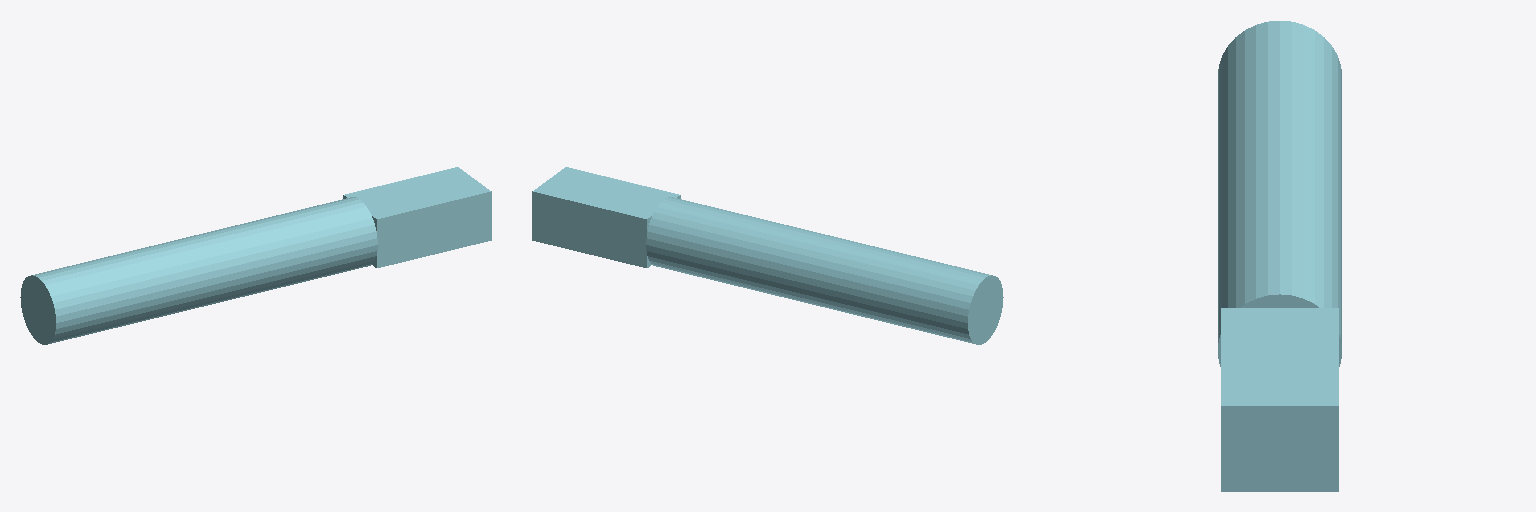
robot.urdf — cylinder_spatula_v6011:
<?xml version="1.0"?>
<robot name="cylinder_spatula_v6011">

  <link name="cylinder_spatula_v6011">
    <!-- Handle -->
    <visual>
      <origin xyz="0 0 0" rpy="0 1.5707963267948966 0"/>
      <geometry>
        <cylinder length="0.17499835379352685" radius="0.01683116076641311"/>
      </geometry>
      <material name="material">
        <color rgba="0.639 0.847 0.882 1.0"/>
      </material>
    </visual>
    <collision>
      <origin xyz="0 0 0" rpy="0 1.5707963267948966 0"/>
      <geometry>
        <cylinder length="0.17499835379352685" radius="0.01683116076641311"/>
      </geometry>
    </collision>

    <!-- Head -->
    <visual>
      <origin xyz="0.11869266563997448 0 0" rpy="0 0 0"/>
      <geometry>
        <box size="0.06238697748642211 0.03163787841142879 0.02554686255058357"/>
      </geometry>
      <material name="material">
        <color rgba="0.639 0.847 0.882 1.0"/>
      </material>
    </visual>
    <collision>
      <origin xyz="0.11869266563997448 0 0" rpy="0 0 0"/>
      <geometry>
        <box size="0.06238697748642211 0.03163787841142879 0.02554686255058357"/>
      </geometry>
    </collision>

    <inertial>
      <density value="400.0"/>
    </inertial>
  </link>

</robot>

--- Render facts (derived) ---
The picture shows the robot from 3 angles, left to right: view 1: azimuth 30°, elevation 25°; view 2: azimuth 150°, elevation 25°; view 3: azimuth 270°, elevation 25°; orthographic projection.
Model cylinder_spatula_v6011 with 1 links and 0 joints (none), rooted at cylinder_spatula_v6011, posed all joints at 0.
Links seen in each view (by area): view 1: cylinder_spatula_v6011; view 2: cylinder_spatula_v6011; view 3: cylinder_spatula_v6011.
Boxes of the visible links, box(x1,y1,x2,y2) form: cylinder_spatula_v6011: box(20, 167, 491, 344); cylinder_spatula_v6011: box(532, 167, 1003, 344); cylinder_spatula_v6011: box(1218, 21, 1341, 491).
Size in the robot's own frame: 0.2374 by 0.0337 by 0.0337 metres.
Geometry: primitives only (box / cylinder / sphere), no mesh files.
